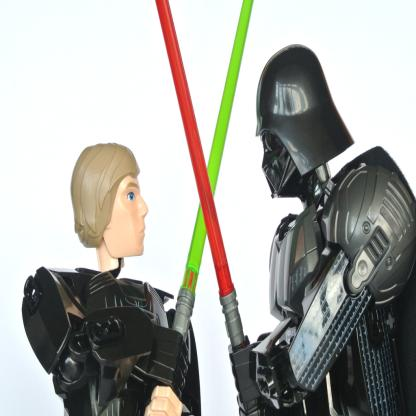Helmet: (256, 60, 362, 201)
